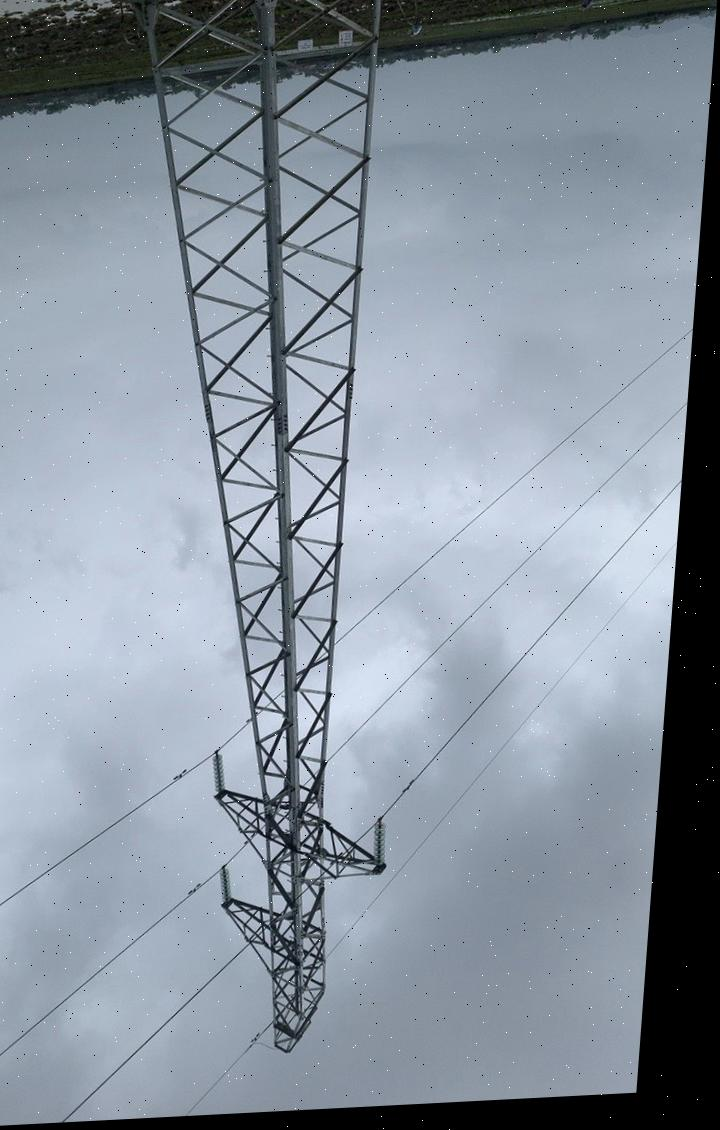tower: (136, 0, 419, 1059)
